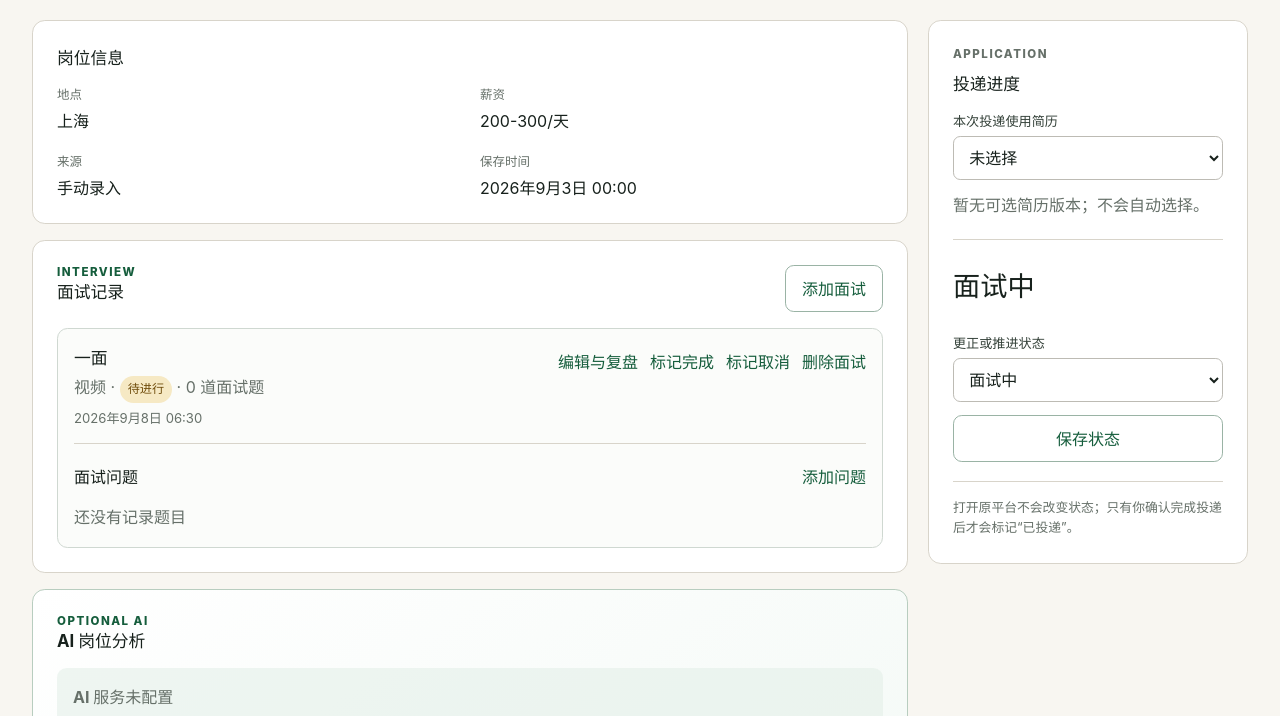
Test case: App › explicitly marks a round cancelled without changing the Application
(page scrolled)
Click the button "标记取消".
click(758, 361)  # box [726, 345, 790, 377]
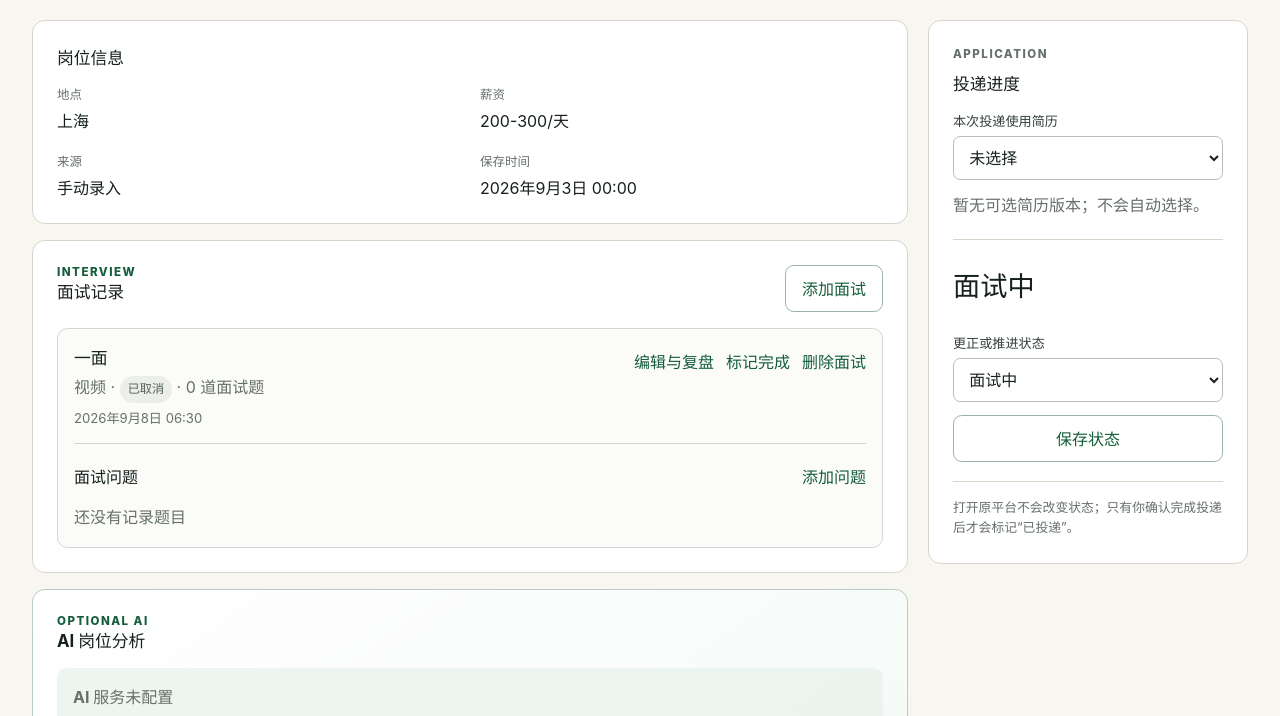
expect the text "已取消" is shown: met, box [120, 376, 172, 402]
